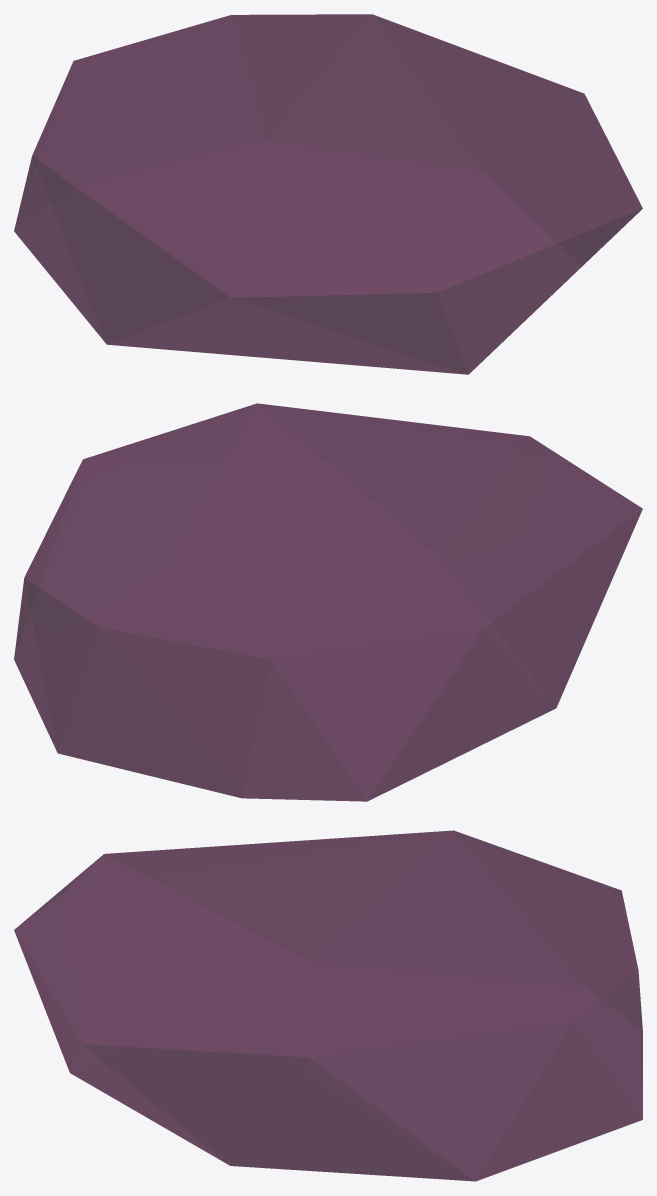
3 renders of one model, top to bottom at view 1: azimuth 30°, elevation 25°; view 2: azimuth 150°, elevation 25°; view 3: azimuth 270°, elevation 25°, orthographic. The views are drawn at different scales.
Parts seen in each view (by area): view 1: Shape_IndexedFaceSet.009_Shape_IndexedFaceSet.435; view 2: Shape_IndexedFaceSet.009_Shape_IndexedFaceSet.435; view 3: Shape_IndexedFaceSet.009_Shape_IndexedFaceSet.435.
Part boxes in pixels (x1=…): Shape_IndexedFaceSet.009_Shape_IndexedFaceSet.435: x1=14, y1=14, x2=642, y2=374; Shape_IndexedFaceSet.009_Shape_IndexedFaceSet.435: x1=14, y1=403, x2=642, y2=801; Shape_IndexedFaceSet.009_Shape_IndexedFaceSet.435: x1=14, y1=830, x2=642, y2=1181.
Size of the model in its own units: 0.1766 by 0.0485 by 0.2068.
